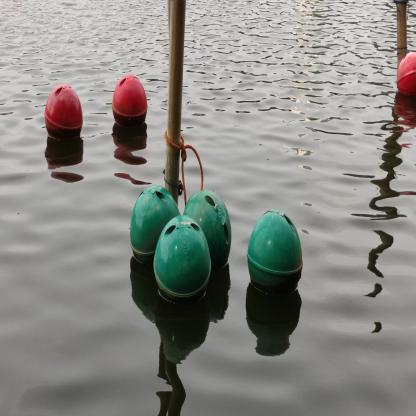green_buoy: (151, 214, 216, 312), (247, 207, 305, 307), (129, 182, 182, 269), (182, 185, 232, 277)
red_buoy: (44, 83, 84, 147), (111, 72, 149, 134), (394, 47, 415, 97)
